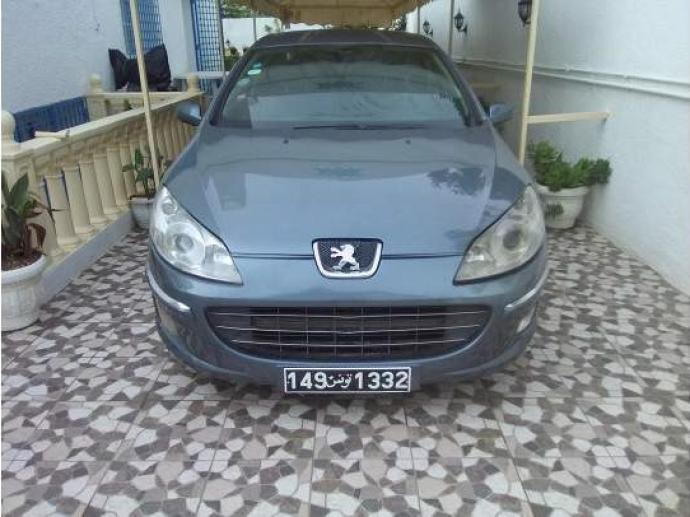LP: (281, 365, 416, 398)
